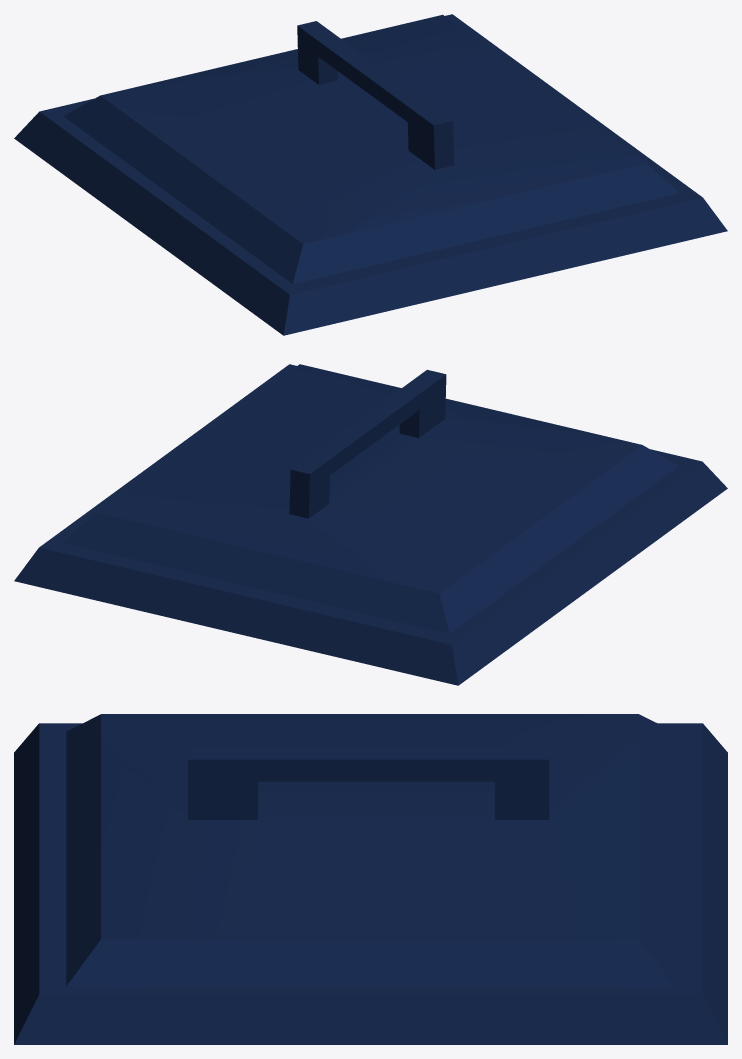
The model's file is trashlid.FBX.
3 renders of one model, top to bottom at view 1: azimuth 30°, elevation 25°; view 2: azimuth 150°, elevation 25°; view 3: azimuth 270°, elevation 25°, orthographic. The views are drawn at different scales.
Visible parts, largest first — view 1: Box003; view 2: Box003; view 3: Box003.
Boxes of the visible parts, left/top/right/bottom form: Box003: left=14, top=14, right=727, bottom=335; Box003: left=14, top=364, right=727, bottom=685; Box003: left=14, top=714, right=727, bottom=1044.
Bounding box in the file's own units: 37.78 × 9.22 × 39.7.
